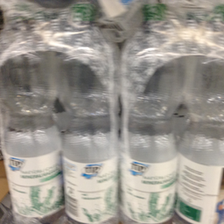water: (54, 3, 120, 224), (120, 3, 185, 224), (1, 1, 65, 224), (178, 5, 223, 222)
